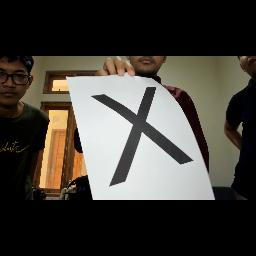x: (90, 82, 196, 190)
